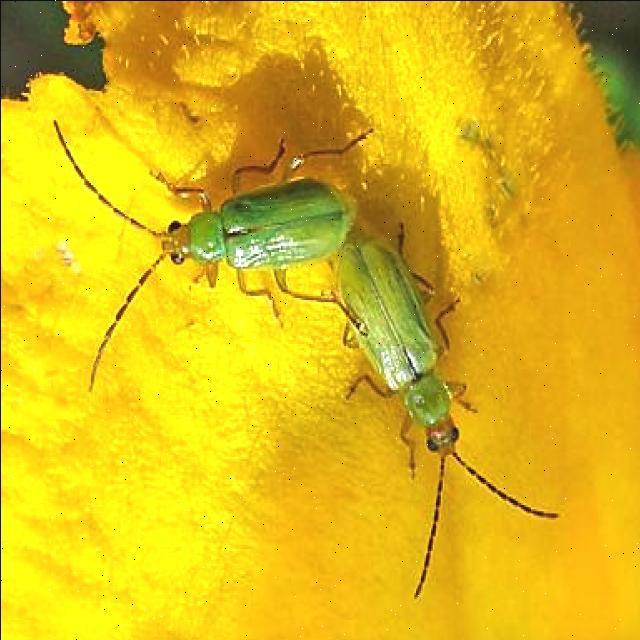gusano_gris: (53, 76, 417, 403), (308, 187, 556, 578)
